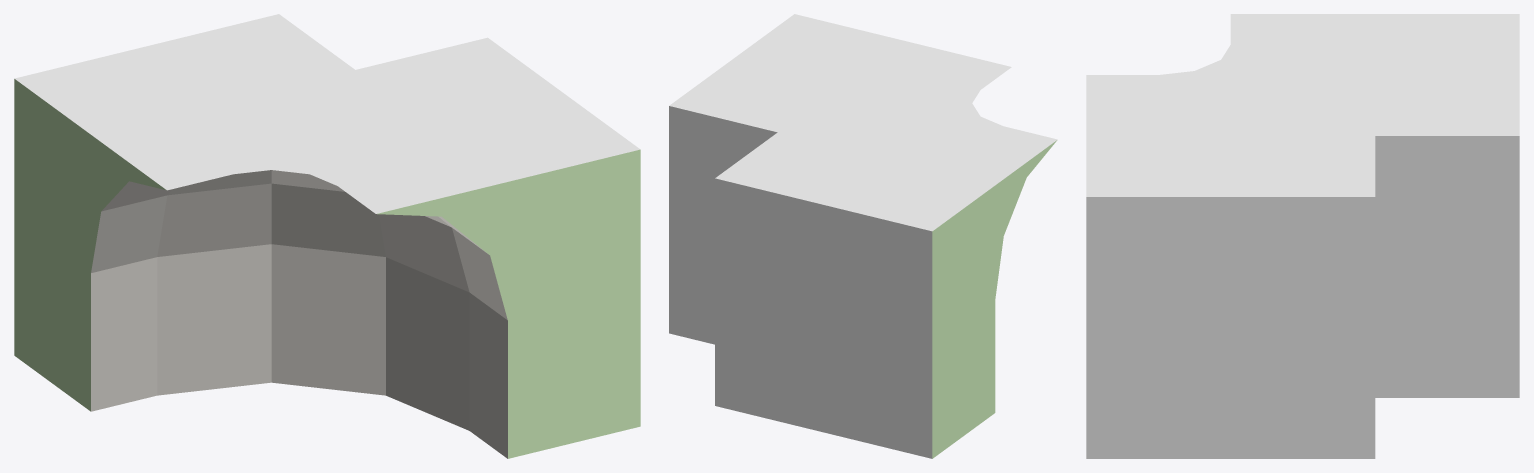
File: Wall_Curve_Inner_3x3_Top.glb
The picture shows the model from 3 angles, left to right: view 1: azimuth 30°, elevation 25°; view 2: azimuth 150°, elevation 25°; view 3: azimuth 270°, elevation 25°; orthographic projection. The views are drawn at different scales.
Visible parts, largest first — view 1: Wall_Curve_Inner_3x3_Top; view 2: Wall_Curve_Inner_3x3_Top; view 3: Wall_Curve_Inner_3x3_Top.
Part boxes in pixels (left/top/right/bottom): Wall_Curve_Inner_3x3_Top: left=14, top=14, right=640, bottom=458; Wall_Curve_Inner_3x3_Top: left=669, top=14, right=1057, bottom=458; Wall_Curve_Inner_3x3_Top: left=1086, top=14, right=1519, bottom=458.
Bounding box in the file's own units: 300 × 200 × 300.
